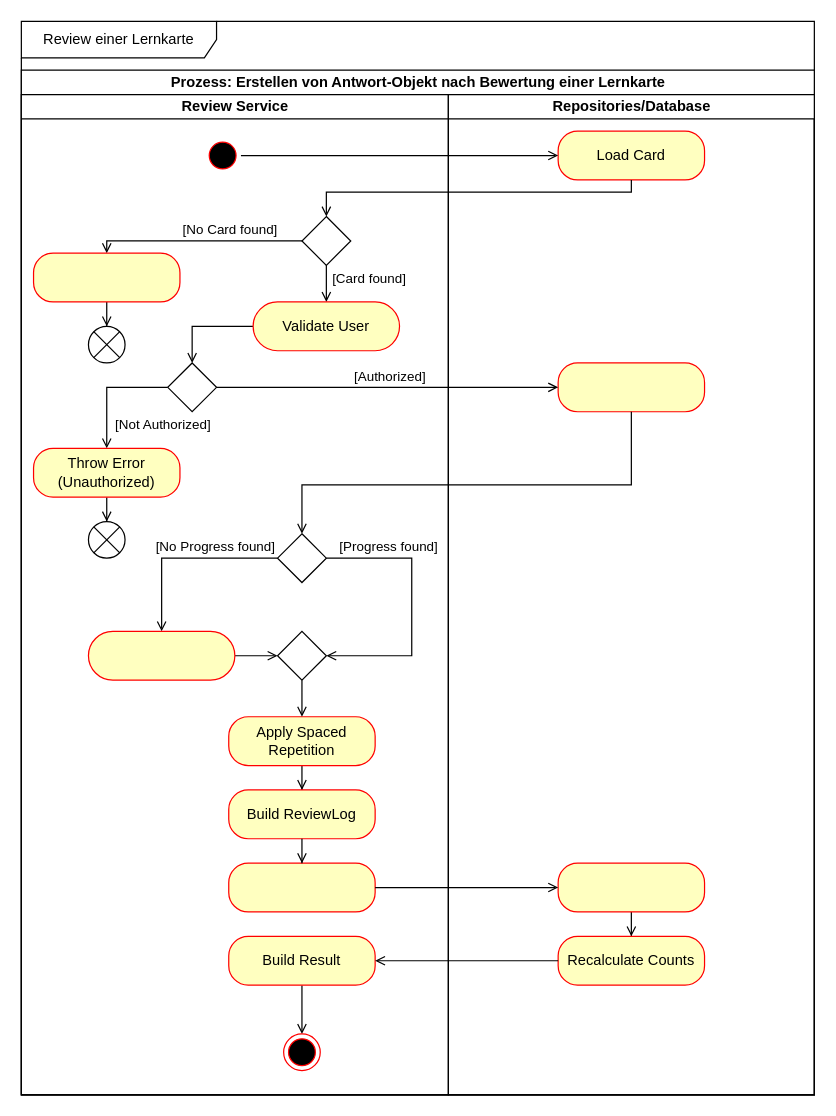
Some shapes in this 836 by 1116 pixel diagram are drawn without their labels. The centre of each missing label's shape, as x and y in pixels:
"Build Progress" goes at pixel 161 655.
"Build XpTransaction" goes at pixel 301 887.
"Load Progress" goes at pixel 631 387.
"Save Changes" goes at pixel 631 887.
"Throw Error (Key not Found)" goes at pixel 106 277.
